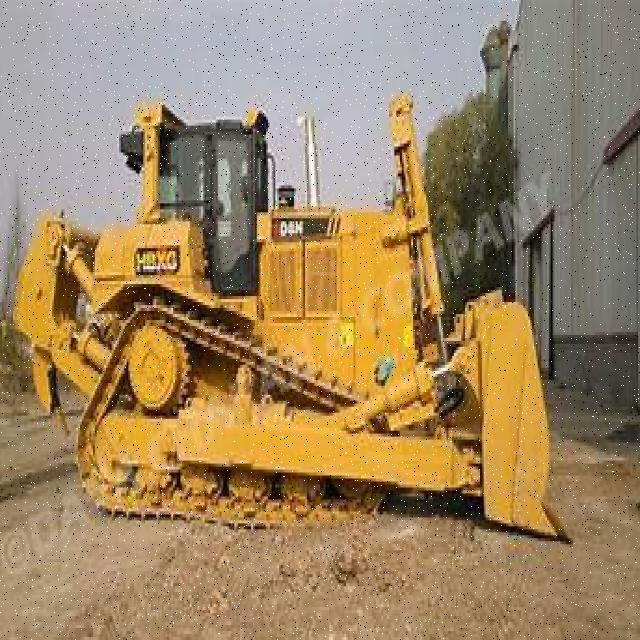Bulldozer: (4, 63, 575, 553)
